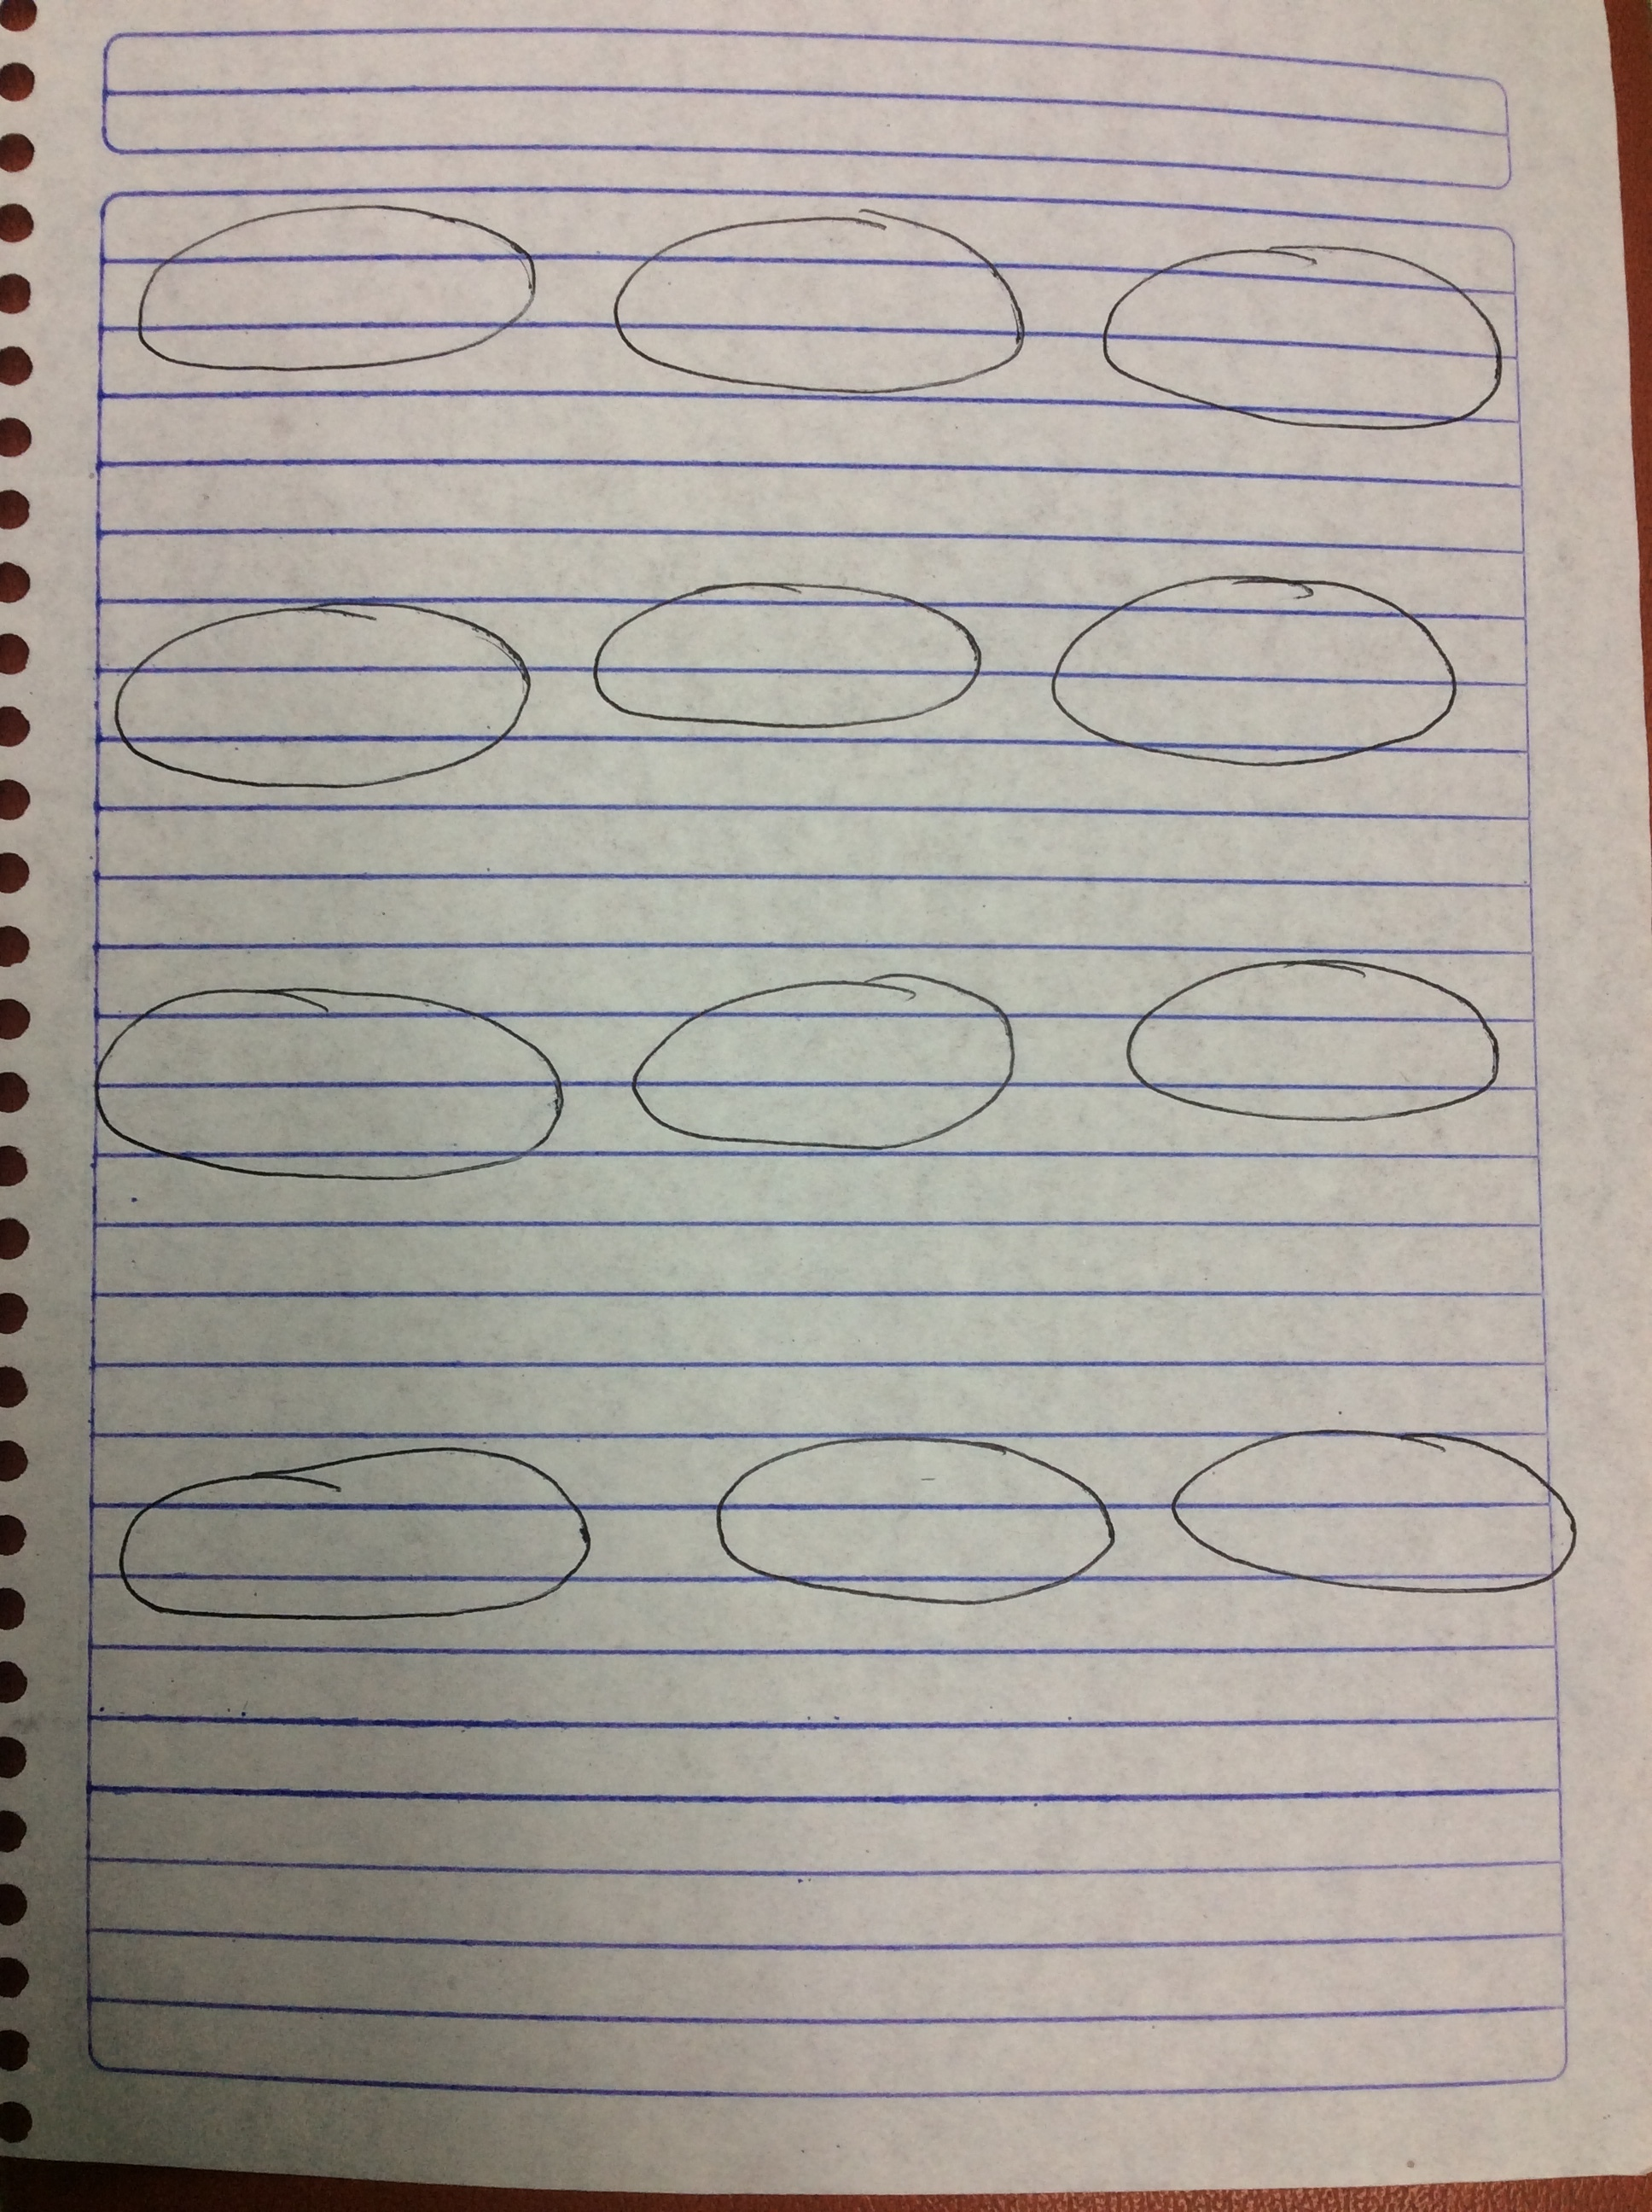start_end: (90, 1410, 599, 1662), (76, 952, 581, 1202), (1032, 529, 1470, 812), (1078, 198, 1531, 455), (592, 180, 1046, 430), (90, 586, 541, 822), (677, 1407, 1128, 1638), (1149, 1390, 1605, 1615), (108, 184, 559, 409), (606, 946, 1032, 1175), (571, 529, 998, 751), (1081, 935, 1531, 1133)
